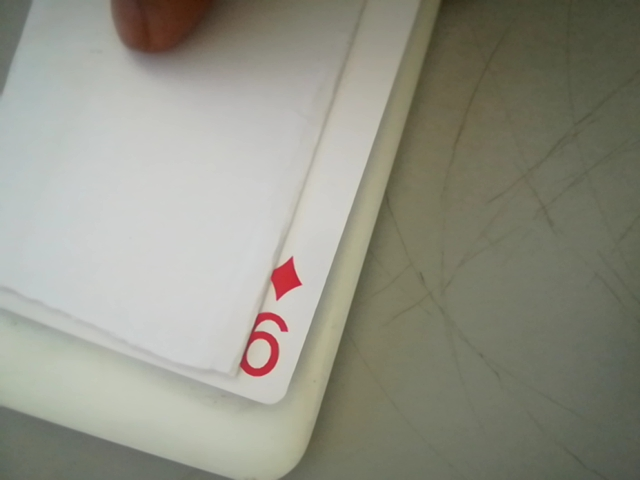fk 9: (226, 247, 320, 399)
